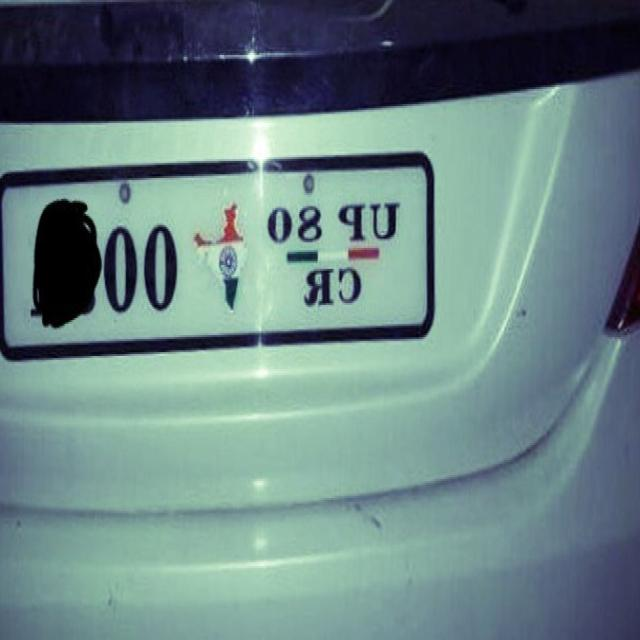number-plate: (21, 148, 426, 360)
